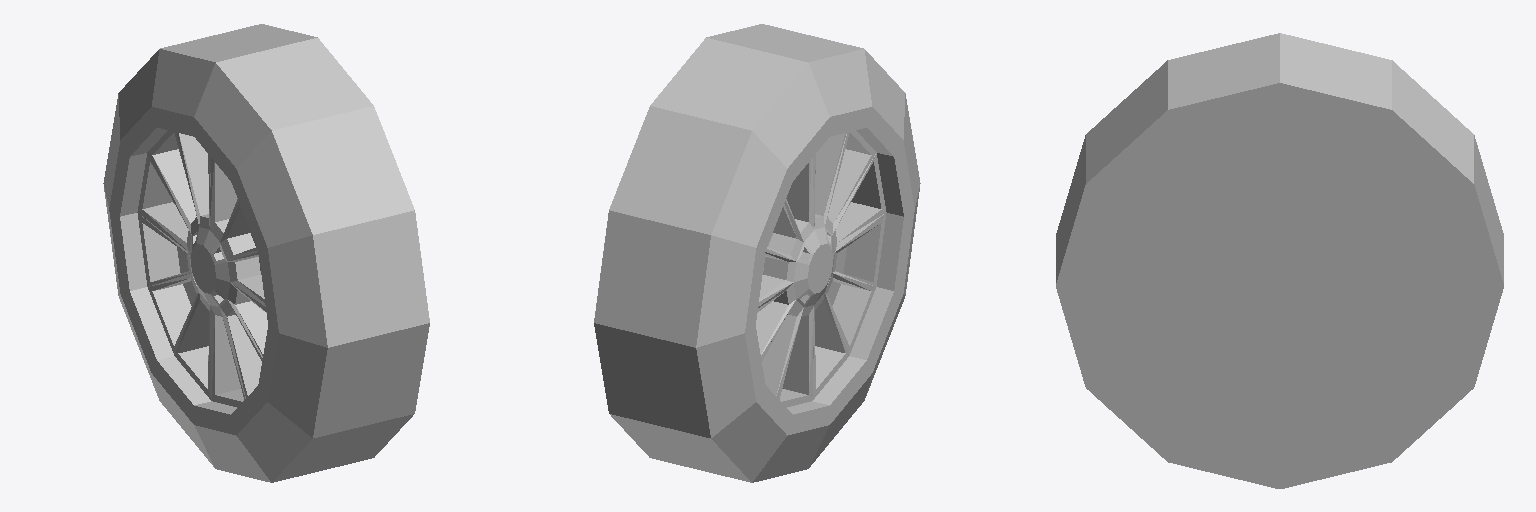
The model's file is Cop_FrontRightWheel.obj.
3 renders of one model, left to right at view 1: azimuth 30°, elevation 25°; view 2: azimuth 150°, elevation 25°; view 3: azimuth 270°, elevation 25°, orthographic.
Parts seen in each view (by area): view 1: Cop_FrontRightWheel; view 2: Cop_FrontRightWheel; view 3: Cop_FrontRightWheel.
Part boxes in pixels (bbox=[...]): Cop_FrontRightWheel: bbox=[103, 24, 429, 482]; Cop_FrontRightWheel: bbox=[594, 24, 920, 482]; Cop_FrontRightWheel: bbox=[1056, 33, 1503, 488].
Size of the model in its own units: 0.1754 by 0.5506 by 0.5506.